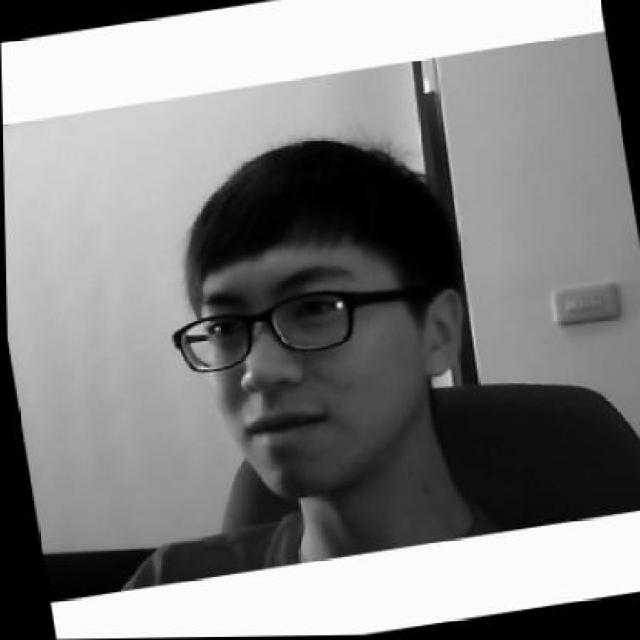attentif: (142, 118, 484, 514)
